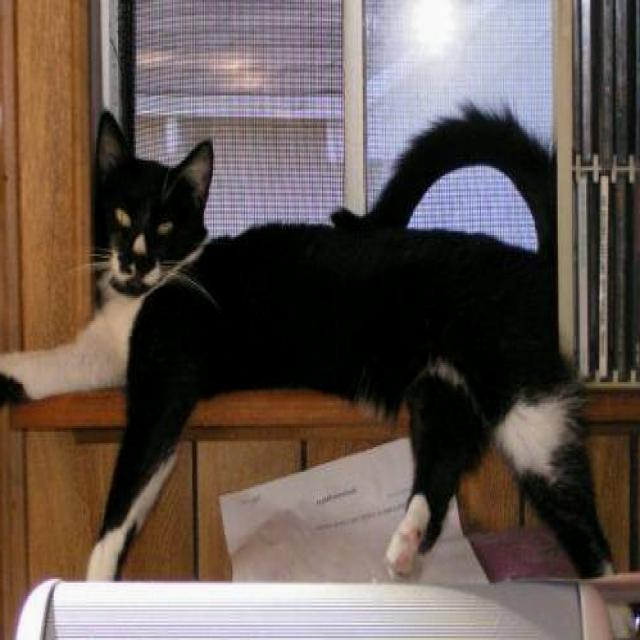Kucing: (20, 87, 602, 568)
